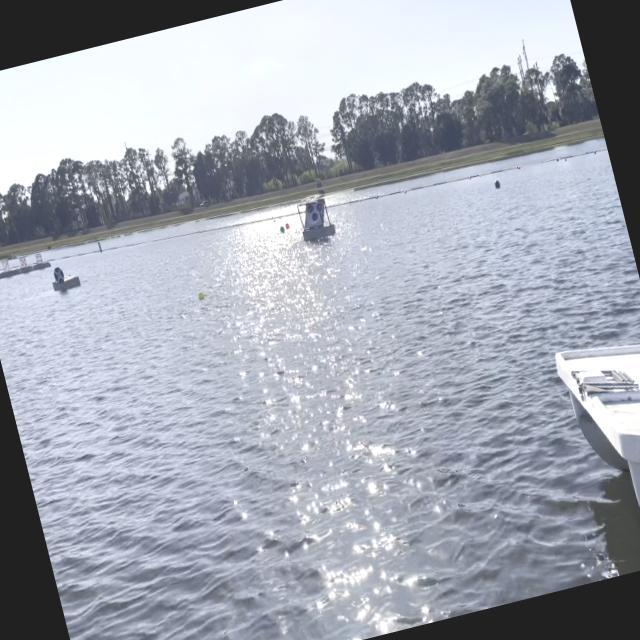buoy: (494, 178, 502, 189), (197, 290, 205, 300), (278, 224, 285, 233), (284, 222, 290, 228)
